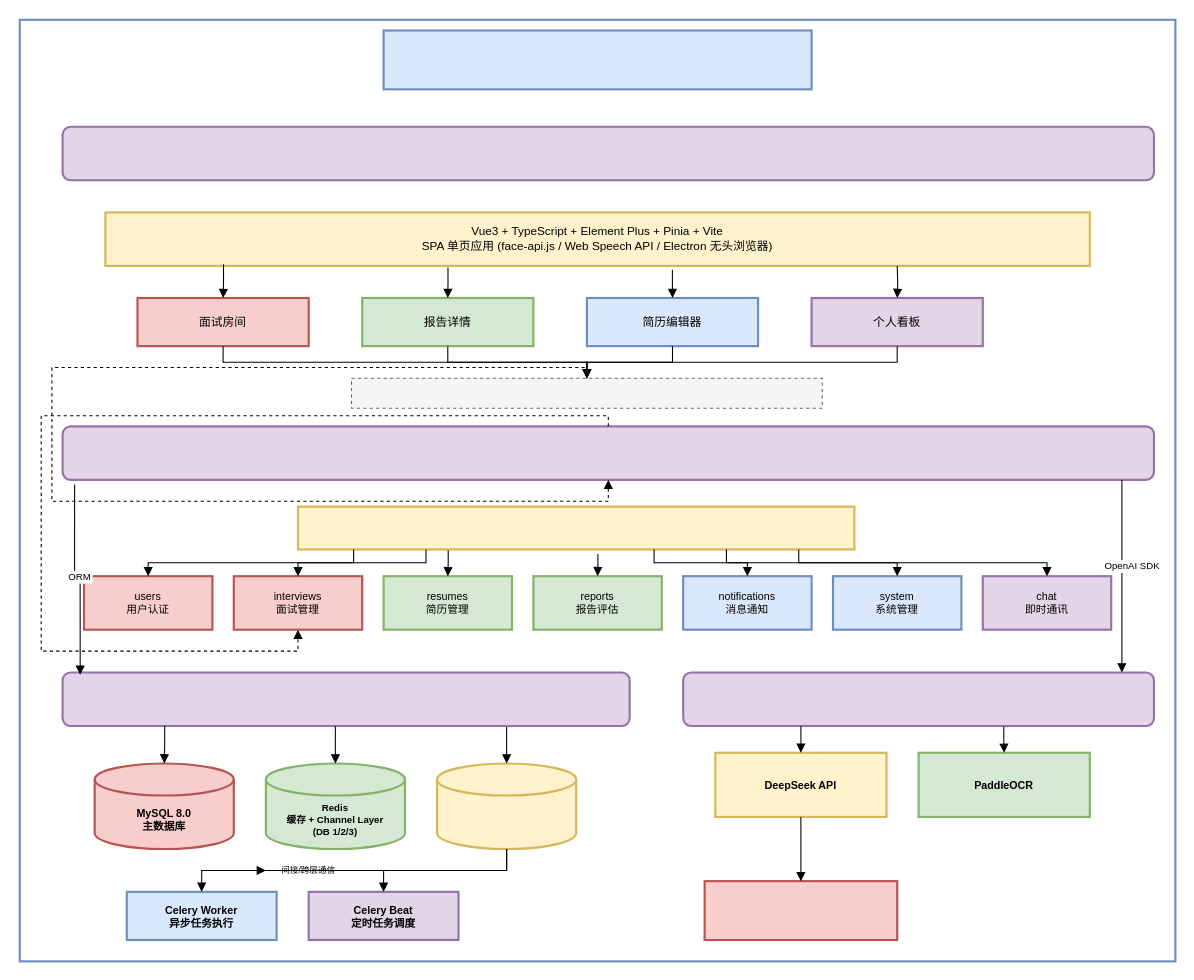
Image size: 1194x980. Some labels were removed from this diagram. Each missing label, with the centre of its shape:
"AI 能力层 (AI Capability Layer)" belongs at (x=918, y=699).
"AI面试与简历管理系统总体架构" belongs at (x=597, y=59).
"Django 5.0 + Django REST Framework + Django Channels (Daphne ASGI)" belongs at (x=575, y=527).
"Electron HTTP 微服务" belongs at (x=800, y=910).
"HTTP REST API ｜ SSE 流式推送 ｜ WebSocket 双向通信" belongs at (x=586, y=392).
"RabbitMQ Celery Broker" belongs at (x=506, y=806).
"业务逻辑层 (Business Logic Layer)" belongs at (x=608, y=452).
"数据与任务层 (Data & Task Layer)" belongs at (x=345, y=699).
"表现层 (Presentation Layer)" belongs at (x=608, y=153).
